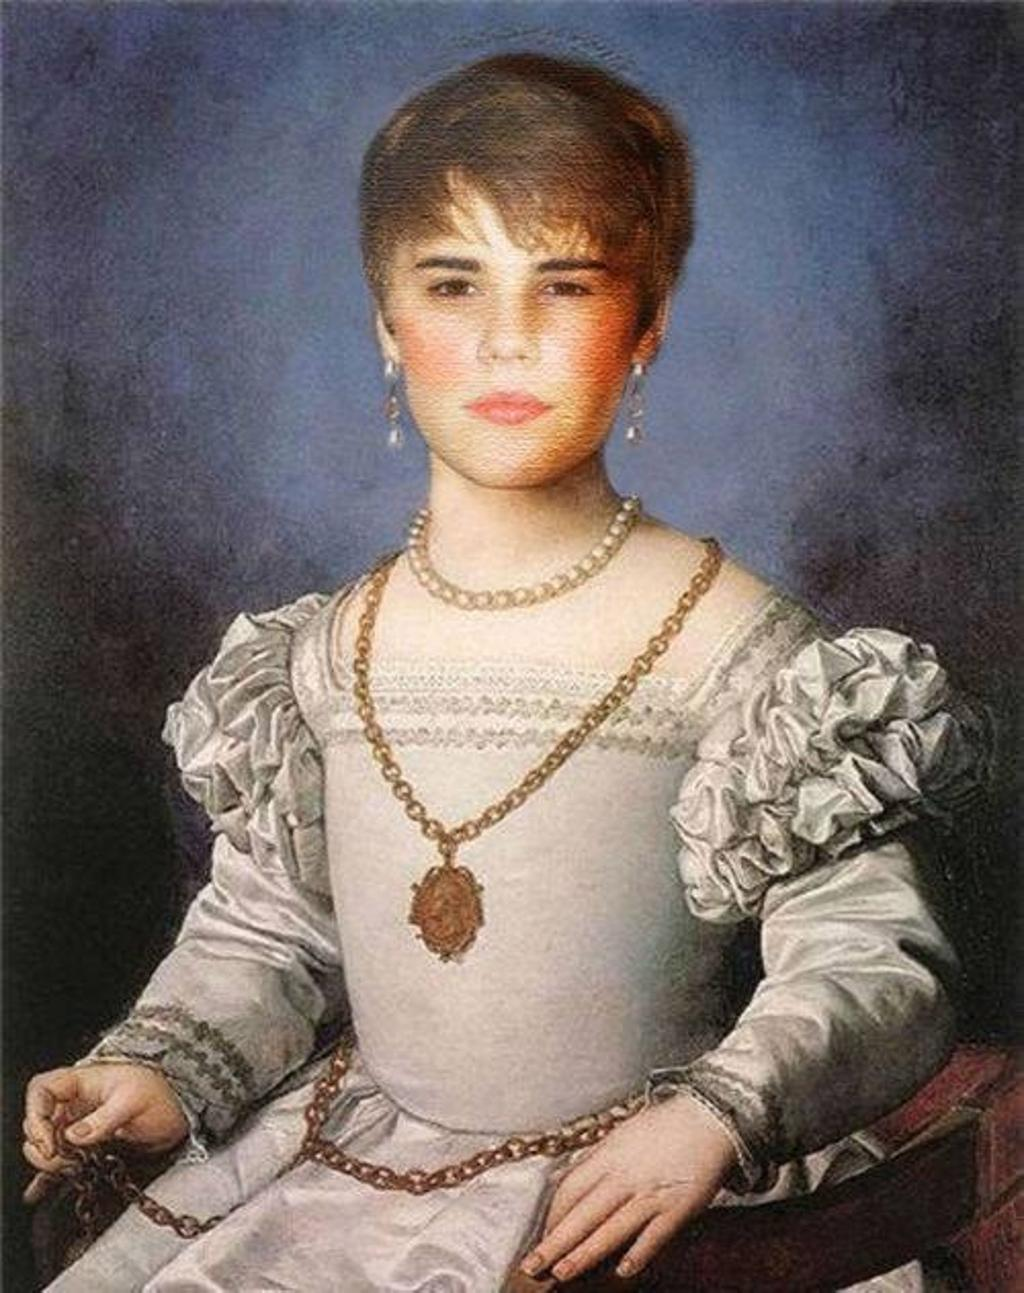face: (393, 164, 633, 484)
